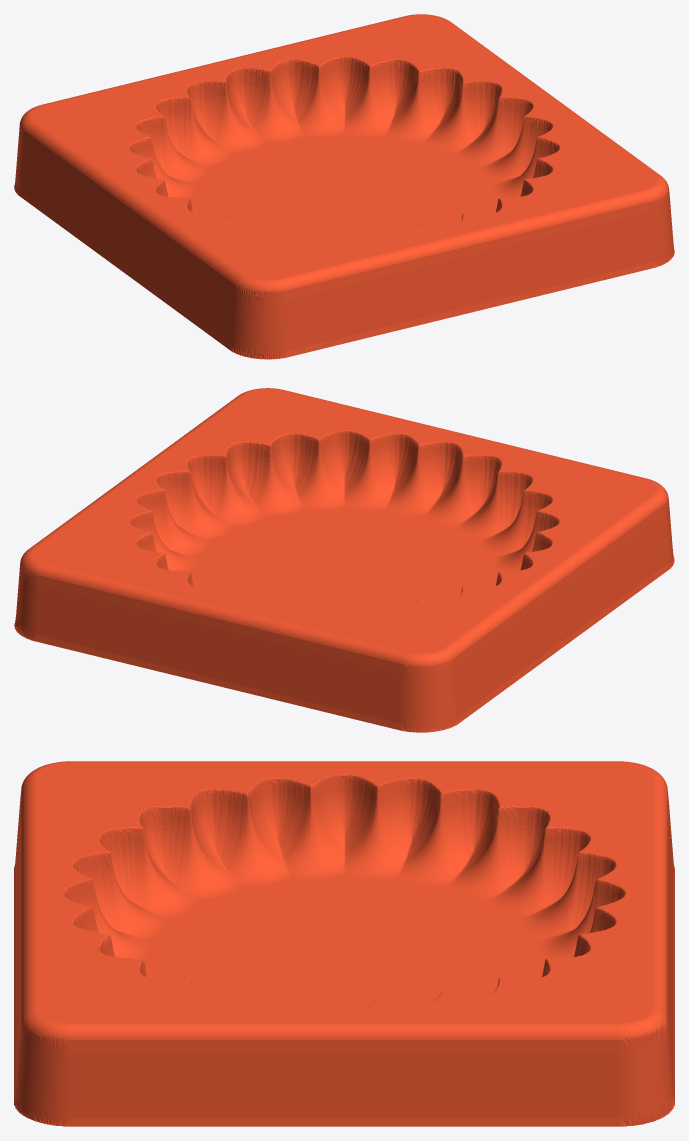
Rendered from mold.glb.
3 renders of one model, top to bottom at view 1: azimuth 30°, elevation 25°; view 2: azimuth 150°, elevation 25°; view 3: azimuth 270°, elevation 25°, orthographic. The views are drawn at different scales.
Parts seen in each view (by area): view 1: geometry_0; view 2: geometry_0; view 3: geometry_0.
Part boxes in pixels (x1=…): geometry_0: x1=14, y1=14, x2=674, y2=359; geometry_0: x1=14, y1=388, x2=674, y2=732; geometry_0: x1=14, y1=761, x2=674, y2=1126.
Size of the model in its own units: 0.105 by 0.0165 by 0.105.
